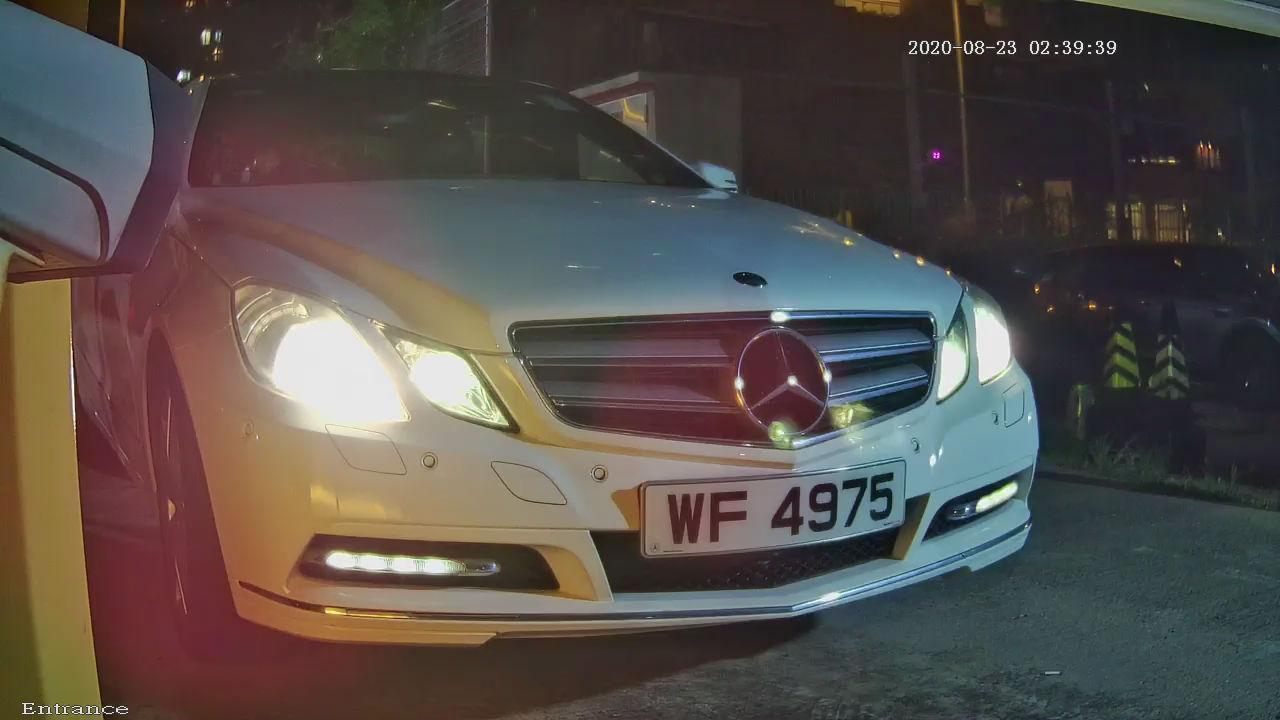Car: (12, 10, 1178, 714)
License Plate: (572, 439, 952, 605)
